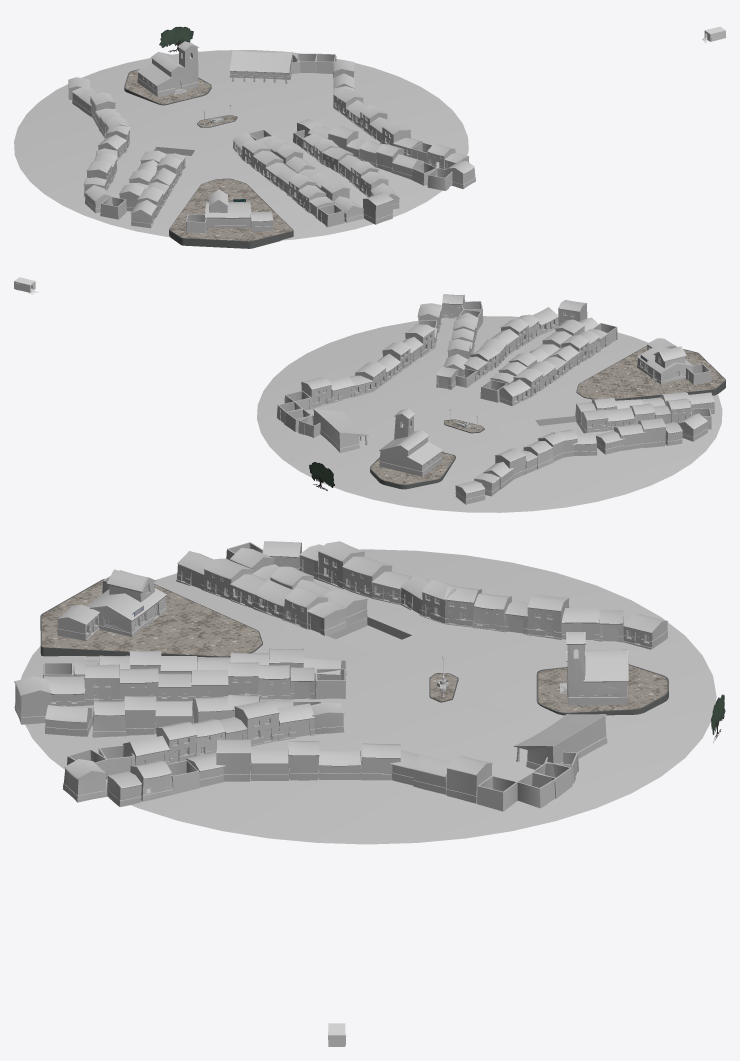
The model's file is PuebloCompleto.fbx.
3 views of the same model, one above another, from view 1: azimuth 30°, elevation 25°; view 2: azimuth 150°, elevation 25°; view 3: azimuth 270°, elevation 25° (orthographic). The views are drawn at different scales.
Visible parts, largest first — view 1: Terreno001, Acera_añadirMeshColider (×2), Iglesia001, CentroSocial001, Box037, CasasGenericas_B010, CasasGenericas_H009, CasasGenericas_F004, Plane007, CasasGenericas_F010, CasasGenericas_B006, CasasGenericas_G009 (+24 smaller); view 2: Terreno001, Acera_añadirMeshColider (×2), Iglesia001, Box037, CentroSocial001, CasasGenericas_B007, CasasGenericas_B009, CasasGenericas_A003, CasasGenericas_C008, CasasGenericas_F012, CasasGenericas_B011, CasasGenericas_B010 (+28 smaller); view 3: Terreno001, Acera_añadirMeshColider (×2), Iglesia001, Box037, CentroSocial001, CasasGenericas_B007, CasasGenericas_B011, CasasGenericas_H009, CasasGenericas_B010, CasasGenericas_B008, CasasGenericas_B006, CasasGenericas_A007 (+47 smaller).
Part boxes in pixels (x1=…): Terreno001: x1=14, y1=50, x2=468, y2=240; Acera_añadirMeshColider (×2): x1=124, y1=69, x2=293, y2=248; Iglesia001: x1=137, y1=41, x2=198, y2=96; CentroSocial001: x1=229, y1=50, x2=292, y2=83; Box037: x1=205, y1=189, x2=251, y2=227; CasasGenericas_B010: x1=363, y1=192, x2=393, y2=224; CasasGenericas_H009: x1=446, y1=161, x2=475, y2=188; CasasGenericas_F004: x1=130, y1=200, x2=157, y2=228; Plane007: x1=159, y1=26, x2=193, y2=52; CasasGenericas_F010: x1=392, y1=154, x2=423, y2=178; CasasGenericas_B006: x1=381, y1=122, x2=411, y2=145; CasasGenericas_G009: x1=376, y1=144, x2=404, y2=172; Terreno001: x1=257, y1=316, x2=722, y2=512; Acera_añadirMeshColider (×2): x1=370, y1=345, x2=725, y2=489; Iglesia001: x1=379, y1=408, x2=443, y2=476; Box037: x1=637, y1=346, x2=693, y2=384; CentroSocial001: x1=313, y1=409, x2=368, y2=452; CasasGenericas_B007: x1=301, y1=377, x2=331, y2=408; CasasGenericas_B009: x1=638, y1=418, x2=666, y2=448; CasasGenericas_A003: x1=499, y1=379, x2=531, y2=406; CasasGenericas_C008: x1=614, y1=423, x2=645, y2=450; CasasGenericas_F012: x1=677, y1=413, x2=707, y2=441; CasasGenericas_B011: x1=495, y1=448, x2=526, y2=479; CasasGenericas_B010: x1=558, y1=300, x2=587, y2=325; Terreno001: x1=21, y1=549, x2=716, y2=844; Acera_añadirMeshColider (×2): x1=40, y1=579, x2=668, y2=715; Iglesia001: x1=559, y1=632, x2=628, y2=705; Box037: x1=86, y1=569, x2=166, y2=637; CentroSocial001: x1=514, y1=714, x2=607, y2=769; CasasGenericas_B007: x1=446, y1=755, x2=492, y2=803; CasasGenericas_B011: x1=527, y1=594, x2=569, y2=639; CasasGenericas_H009: x1=63, y1=759, x2=107, y2=802; CasasGenericas_B010: x1=14, y1=676, x2=52, y2=724; CasasGenericas_B008: x1=234, y1=700, x2=279, y2=746; CasasGenericas_B006: x1=216, y1=739, x2=251, y2=781; CasasGenericas_A007: x1=45, y1=705, x2=92, y2=736.
Size of what is drawn, in the model's own units: 170 by 14.3 by 102.
